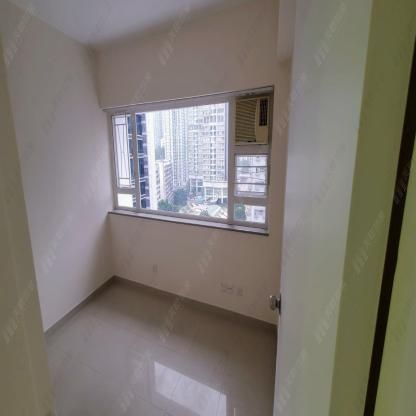AC: (234, 95, 270, 147)
